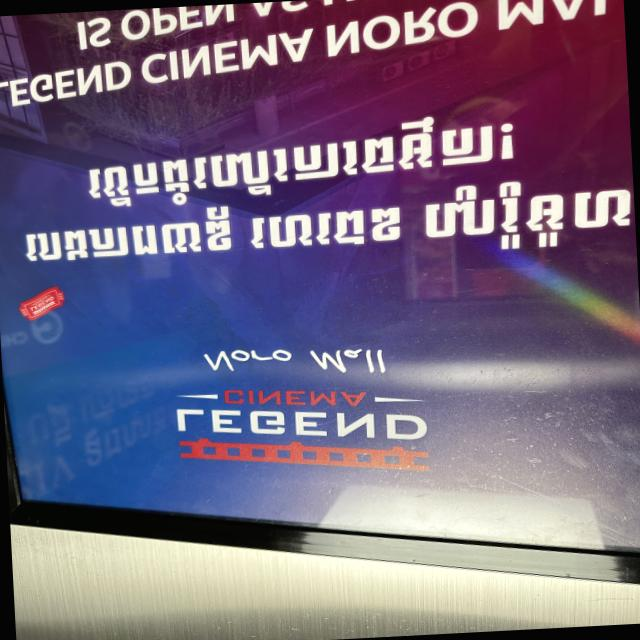2: (20, 182, 635, 273)
Yolov11_80vkh: (76, 111, 519, 213)
